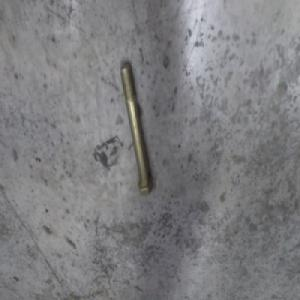Bolt: (122, 60, 155, 192)
